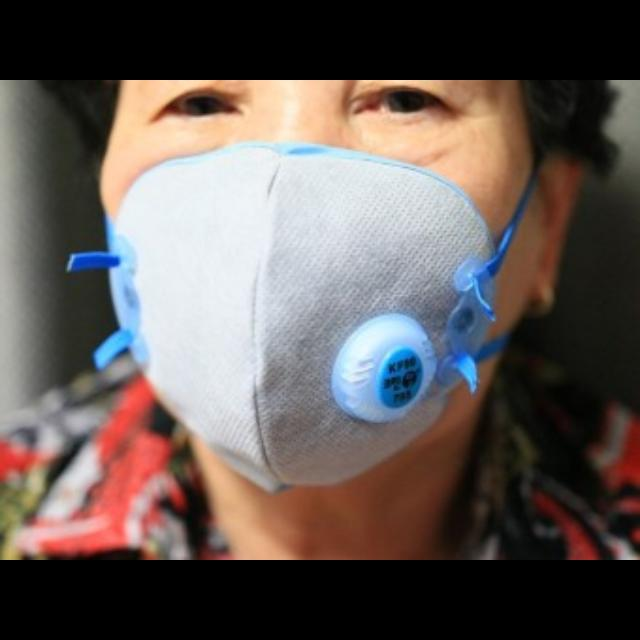masks: (81, 138, 513, 494)
